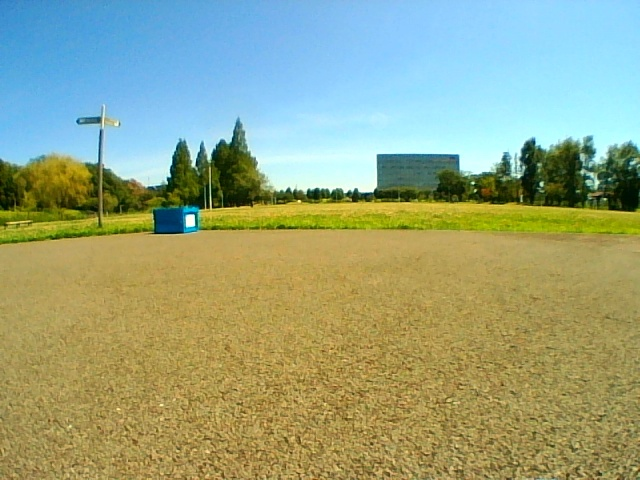blue_box: (154, 207, 197, 233)
tag: (186, 214, 194, 228)
